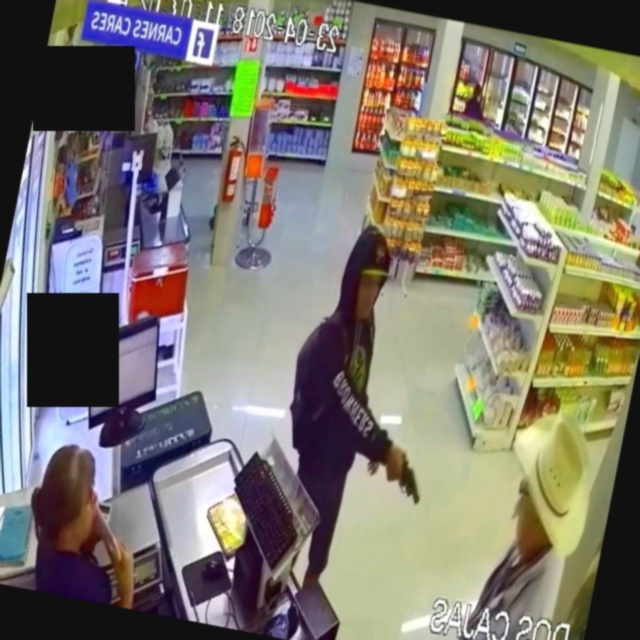gun: (374, 426, 442, 537)
